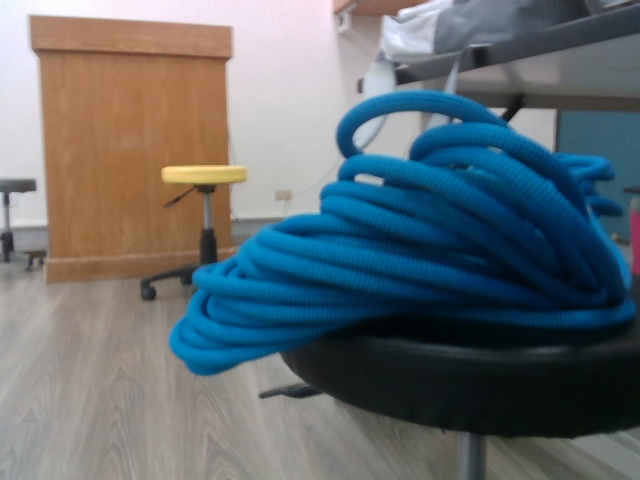rope: (166, 84, 637, 381)
